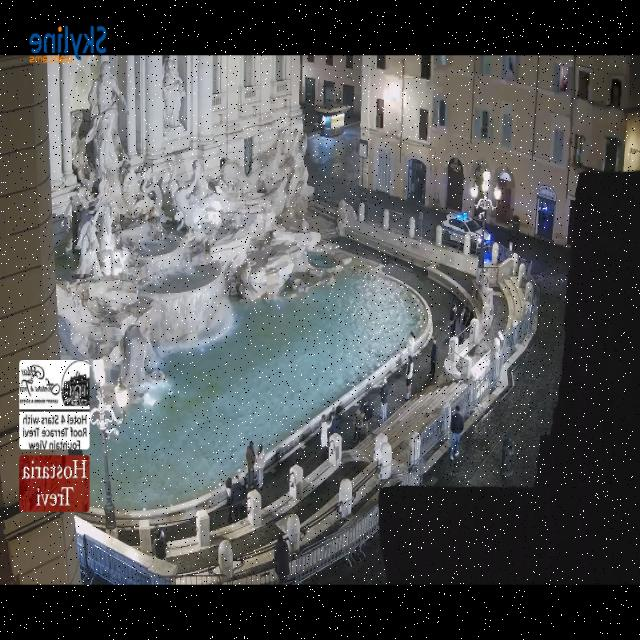person: (273, 535, 288, 584), (450, 406, 463, 459), (230, 477, 245, 522), (352, 403, 363, 443), (245, 442, 254, 489), (361, 399, 372, 436), (254, 444, 263, 489), (379, 378, 387, 423), (404, 356, 412, 399), (153, 531, 165, 559), (428, 337, 436, 378), (320, 415, 329, 449), (225, 478, 231, 524), (464, 309, 473, 336), (457, 304, 465, 334), (449, 303, 456, 337), (406, 332, 414, 356), (331, 411, 338, 434)
